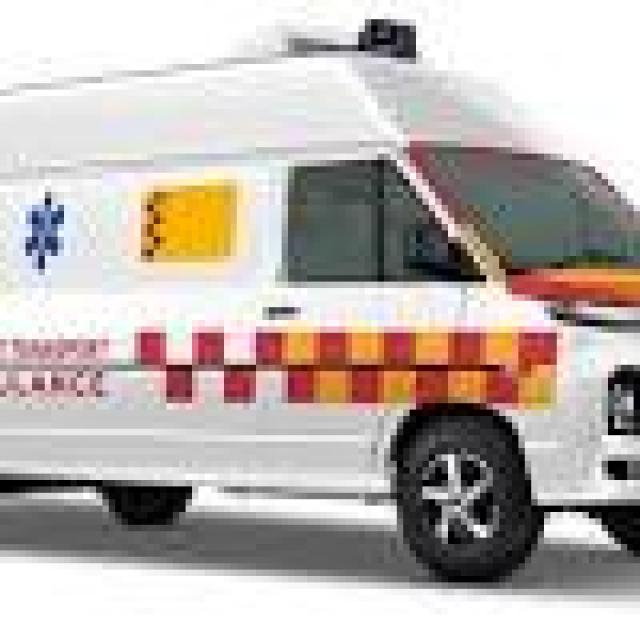ambulance: (11, 31, 640, 640)
